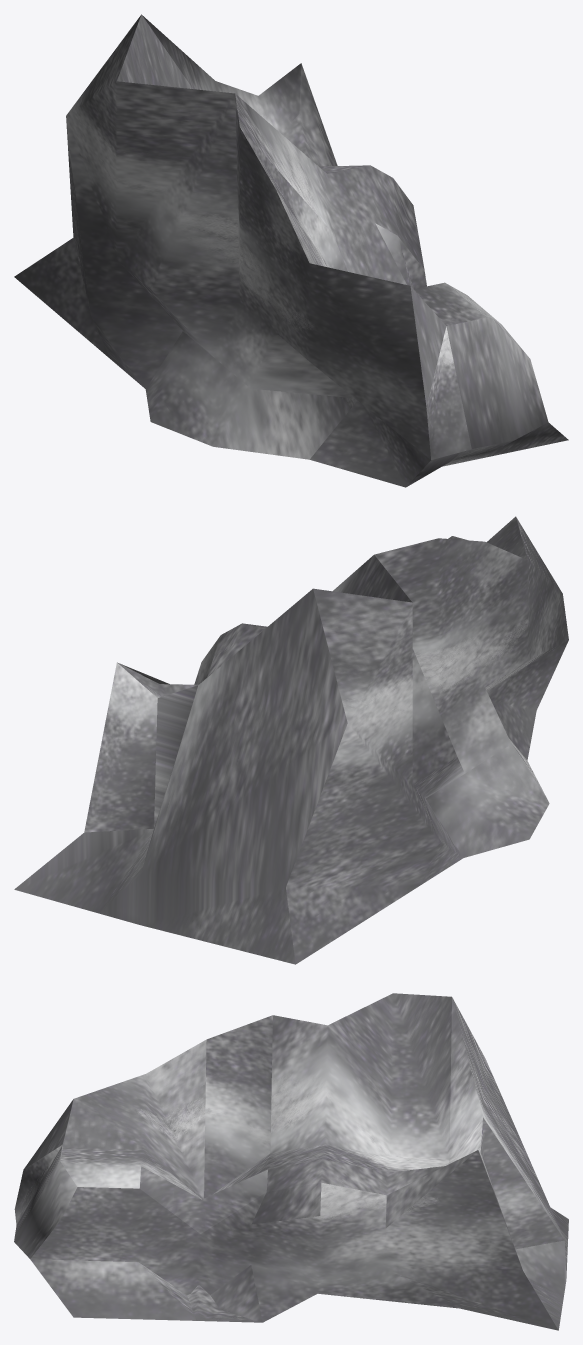
The model's file is Mountain28 - Level 1.FBX.
3 renders of one model, top to bottom at view 1: azimuth 30°, elevation 25°; view 2: azimuth 150°, elevation 25°; view 3: azimuth 270°, elevation 25°, orthographic. The views are drawn at different scales.
Parts seen in each view (by area): view 1: Mountain 28; view 2: Mountain 28; view 3: Mountain 28.
Part boxes in pixels (x1,y1,x2,y2): Mountain 28: (14,14,568,487); Mountain 28: (14,516,568,964); Mountain 28: (14,993,568,1330).
Bounding box in the file's own units: 238 × 209 × 430.
1 material, 1 textured.
